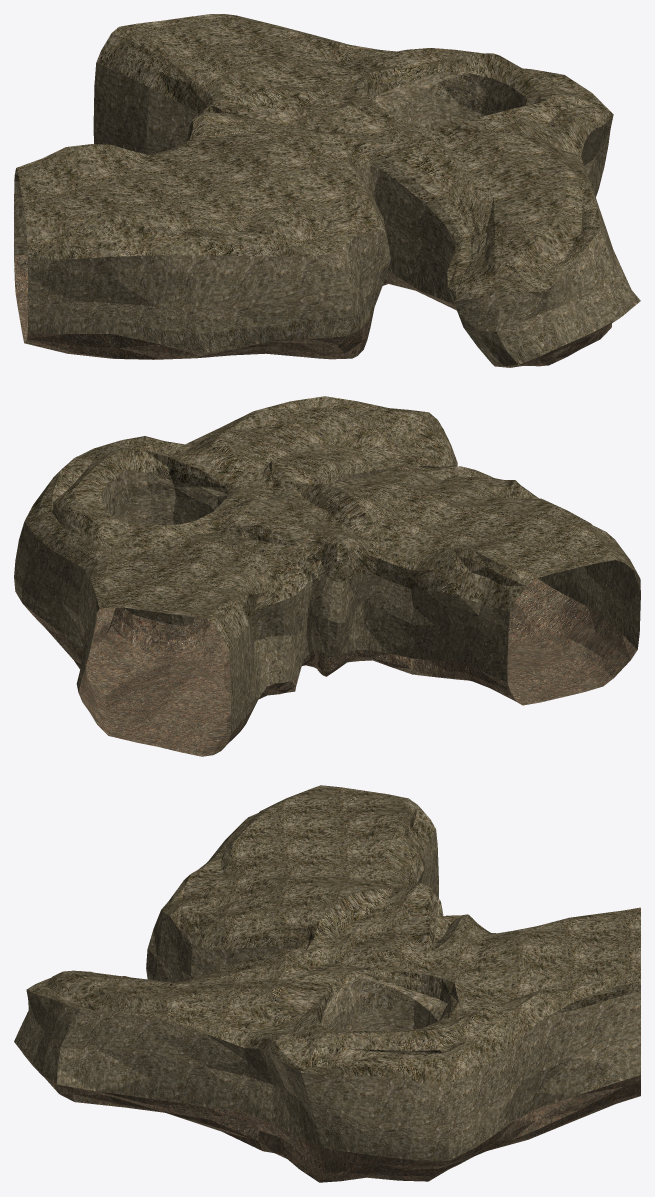
Rendered from thm_tato_fort_tusken_r9_mesh_r9.fbx.
The picture shows the model from 3 angles, top to bottom: view 1: azimuth 30°, elevation 25°; view 2: azimuth 150°, elevation 25°; view 3: azimuth 270°, elevation 25°; orthographic projection. The views are drawn at different scales.
Parts seen in each view (by area): view 1: mesh_node; view 2: mesh_node; view 3: mesh_node.
Part boxes in pixels (x1,y1,x2,y2): mesh_node: [14, 14, 640, 367]; mesh_node: [14, 396, 640, 756]; mesh_node: [14, 785, 640, 1182].
Size of the model in its own units: 36.34 by 10.84 by 35.87.
